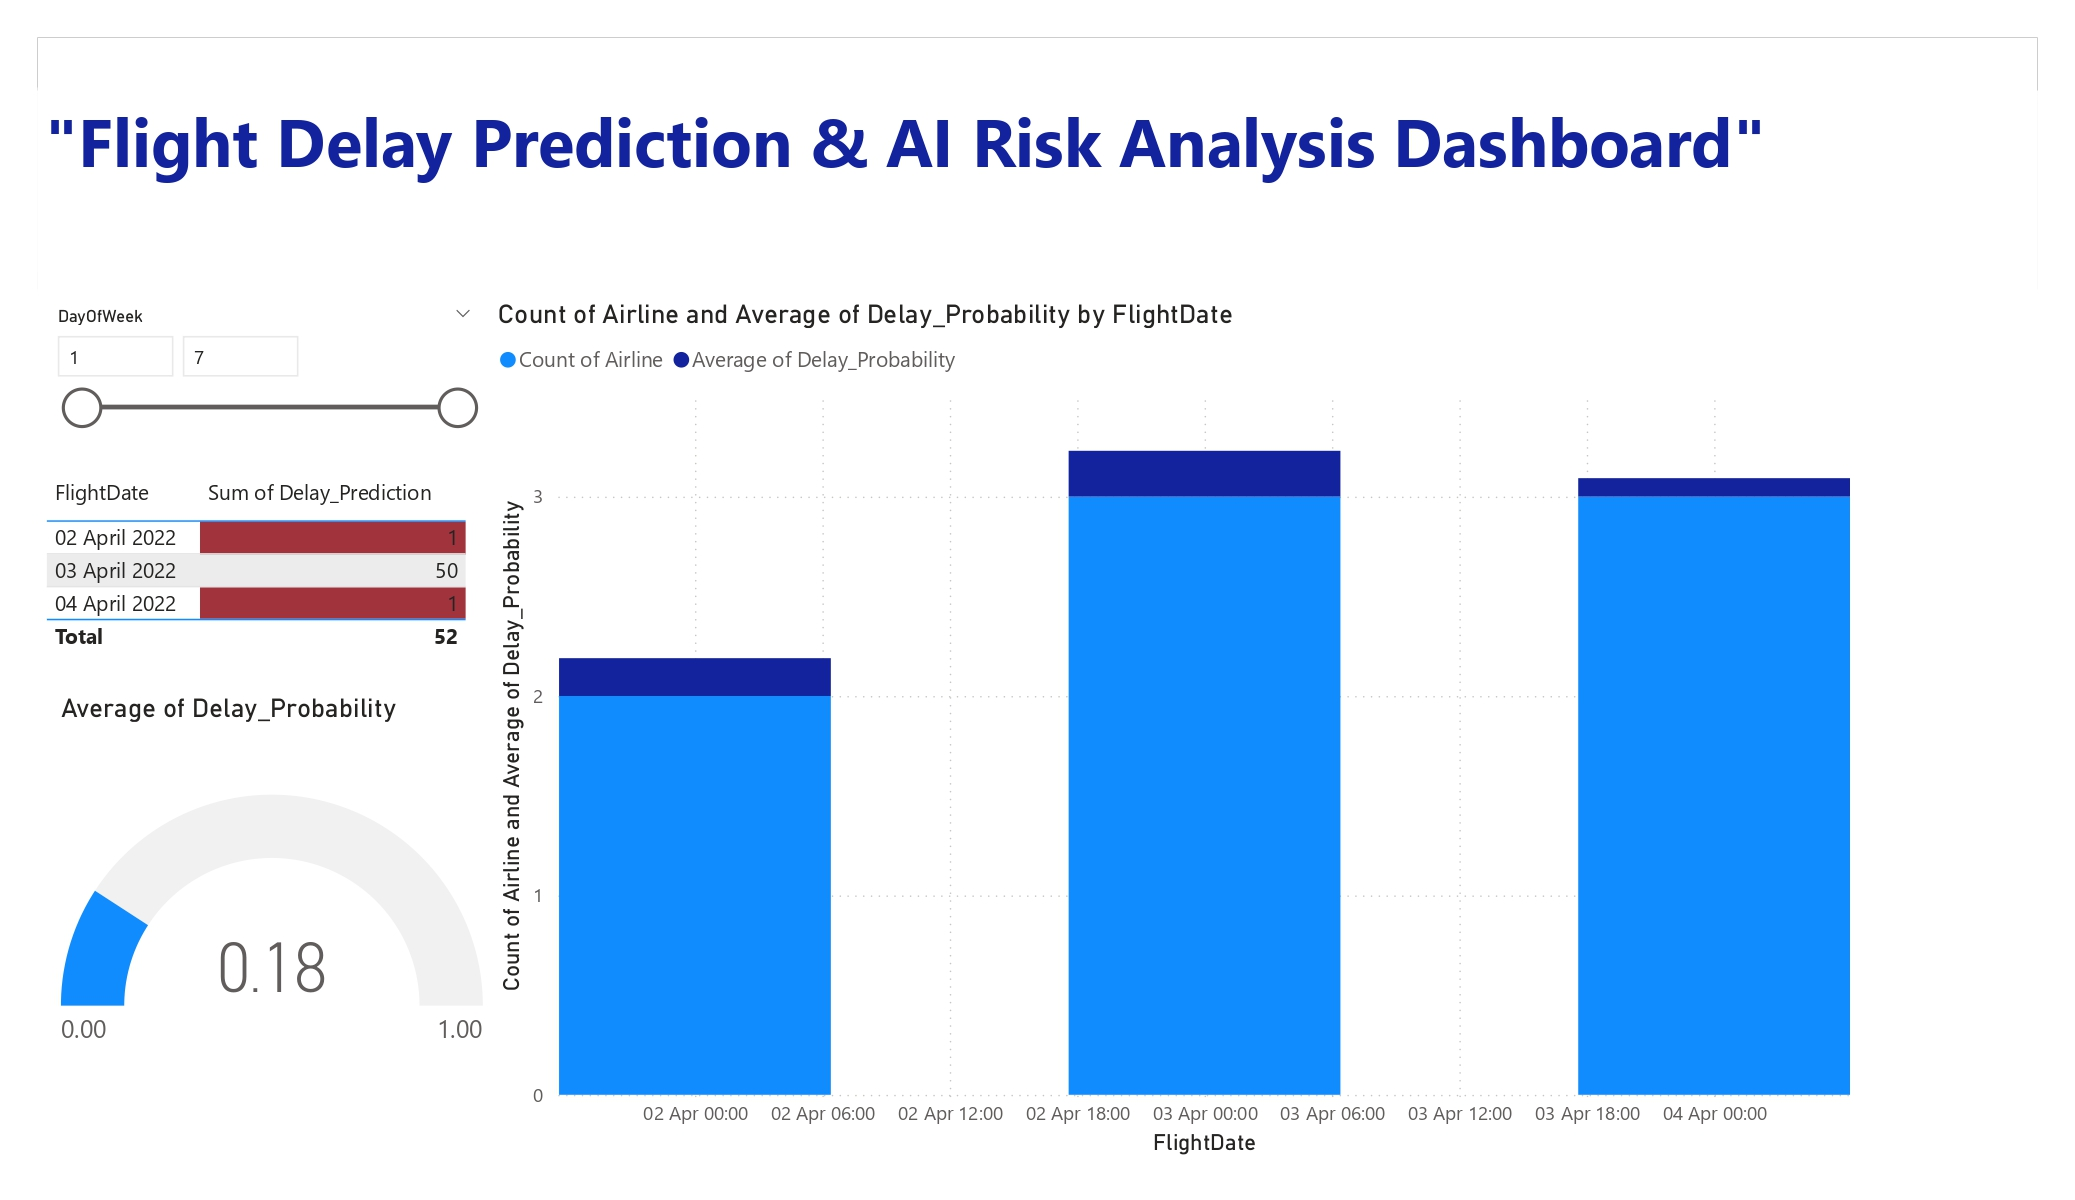

The page's visual inventory and layout, read from the dashboard file:
{"tool":"powerbi","page":{"name":"Page 1","canvas":[1280,720],"ordinal":0},"visuals":[{"type":"tableEx","fields":{"Values":["df.FlightDate","Sum(df.Delay_Prediction)"]},"box":[0,275.8,279.9,133.1],"z":0},{"type":"gauge","fields":{"Y":["Avg(df.Delay_Probability)"]},"box":[9.6,418.5,279.9,279.9],"z":1000},{"type":"columnChart","fields":{"Category":["df.FlightDate"],"Y":["Count(df.Airline)","Avg(df.Delay_Probability)"]},"box":[289.5,167.4,875.5,553],"z":2000},{"type":"slicer","fields":{"Values":["df.DayOfWeek"]},"box":[0,167.4,289.5,108.4],"z":3000},{"type":"textbox","box":[0,31.6,1165,118],"z":3001}]}

Visuals, with their boxes in screenshot pixels (x1, y1, x2, y2):
tableEx - df.FlightDate x Sum(df.Delay_Prediction): Rect(38, 468, 475, 676)
gauge - Avg(df.Delay_Probability): Rect(52, 691, 490, 1129)
columnChart - df.FlightDate x Count(df.Airline): Rect(490, 299, 1858, 1162)
slicer - df.DayOfWeek: Rect(38, 299, 490, 468)
textbox: Rect(38, 87, 1858, 271)
